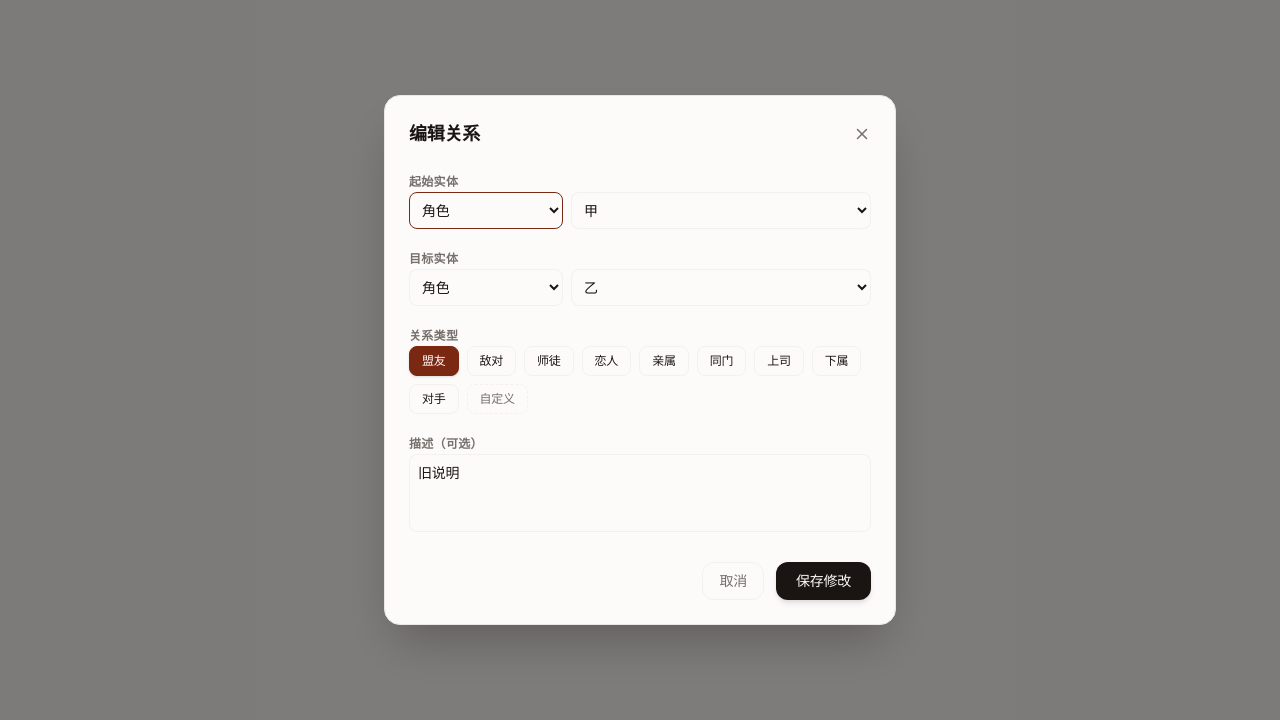
relationship generation guard › keeps the relationship edit dialog and fields when a generation conflict rejects updating
Replace the text in the text box with placeholder "补充关系细节..." with "编辑冲突后保留". click: {"x": 640, "y": 493}
box: [409,454,871,532]
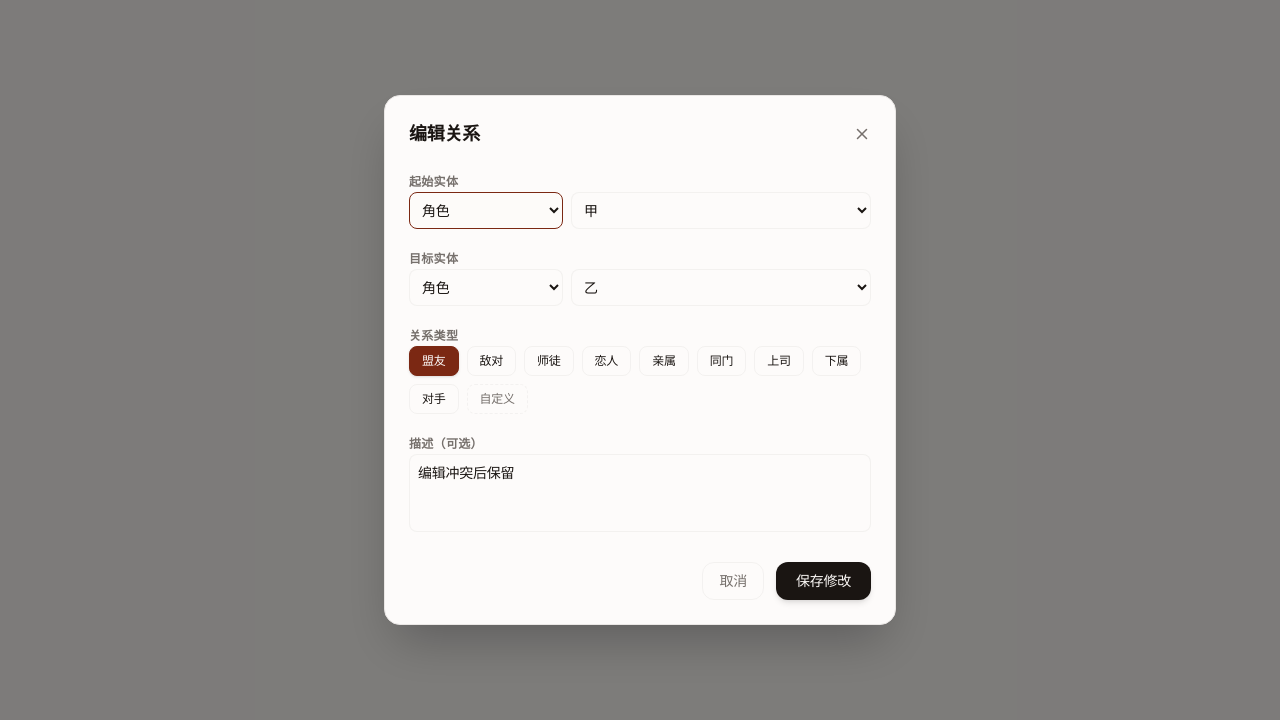
Click the button "保存修改". click: {"x": 824, "y": 581}
box: [776,562,871,600]
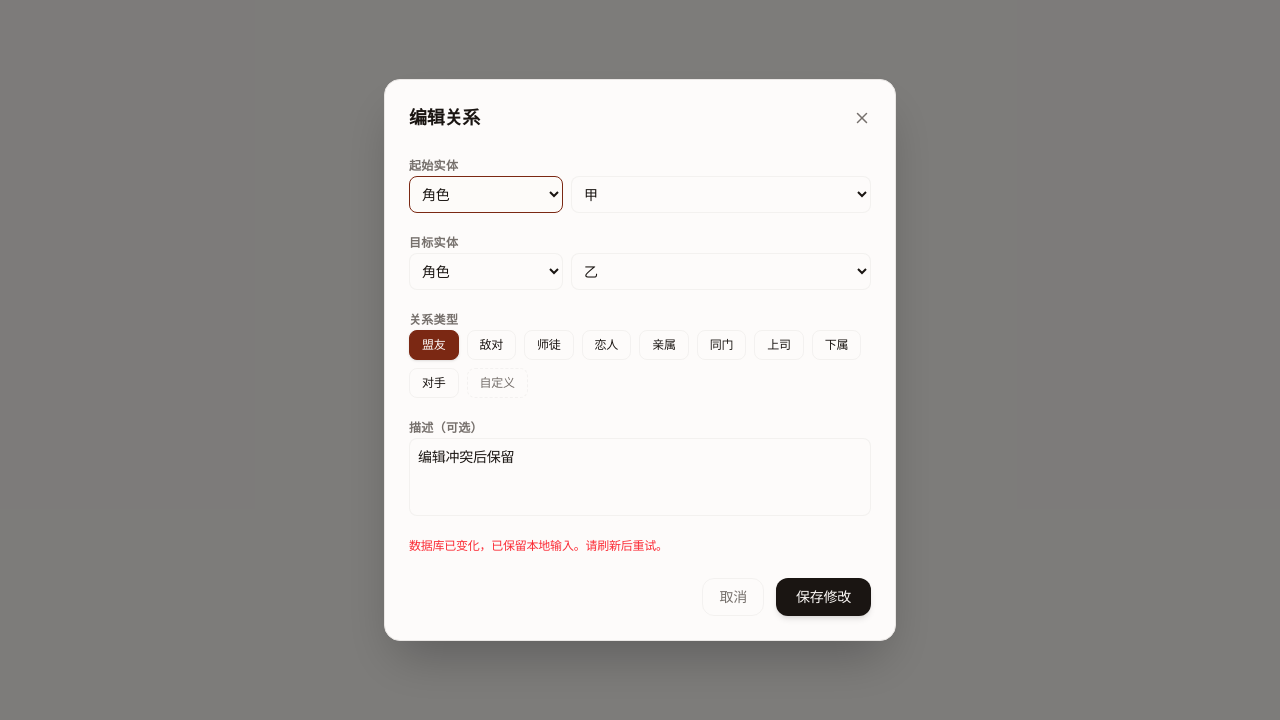
Expected: the dialog is shown, [384,79,896,641]
Result: the text "数据库已变化，已保留本地输入。请刷新后重试。" is shown at [409,538,668,553]
